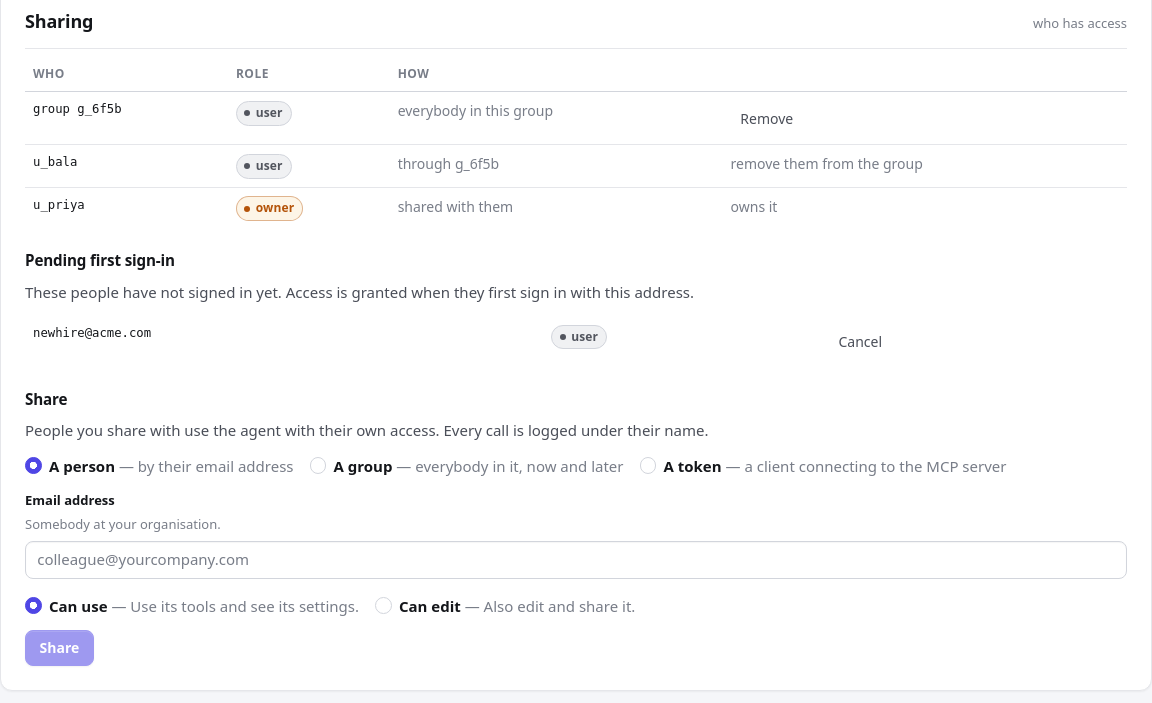
Test case: sharing with a group › renders the server's sentence when the group went away since the list loaded
The width and height of the screenshot is (1152, 703).
Click the radio button labelled "A group — everybody in it, now and later" at [318, 466], box [310,457,326,474]
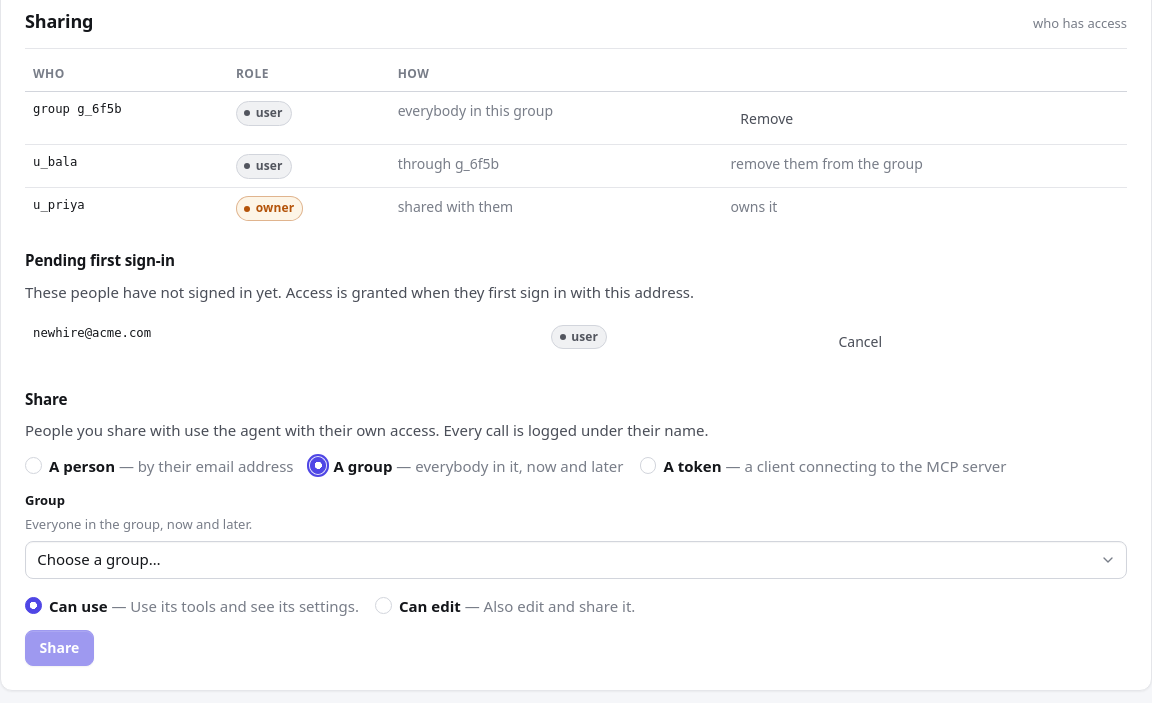
Select "eng — whoever your directory puts in it" in the dropdown labelled "Group Everyone in the group, now and later." at [576, 560], box [25,541,1127,579]
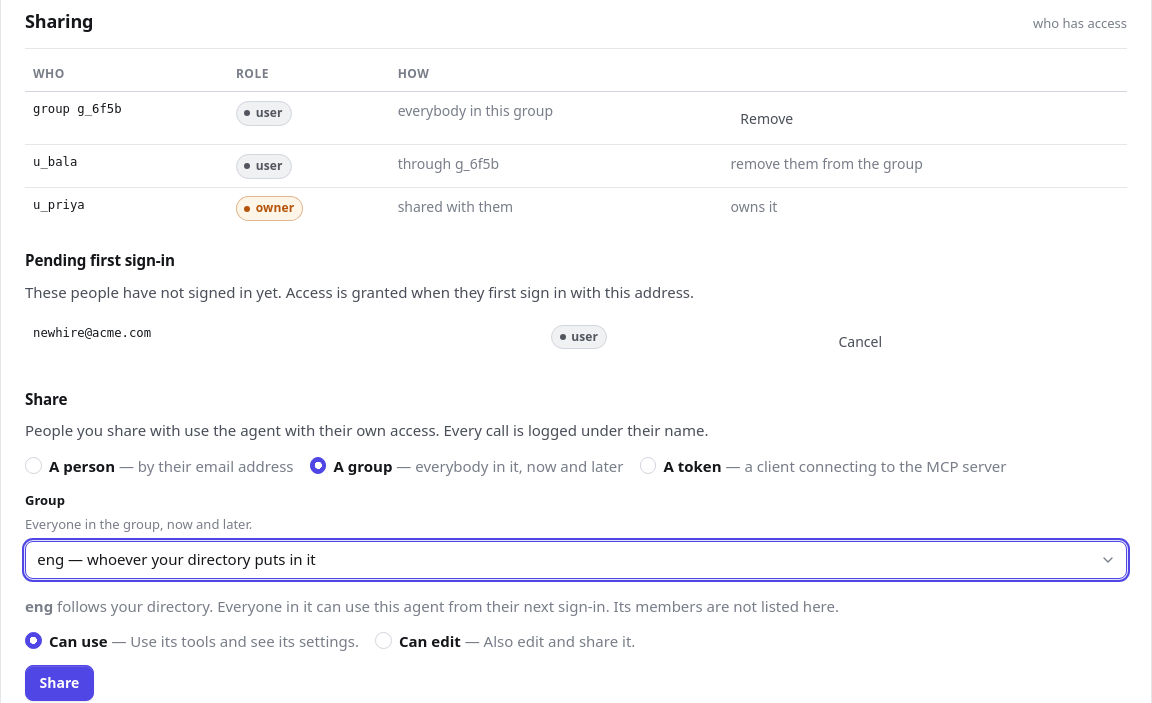
Click the button "Share" at [59, 683], box [25,665,94,701]
(page scrolled)
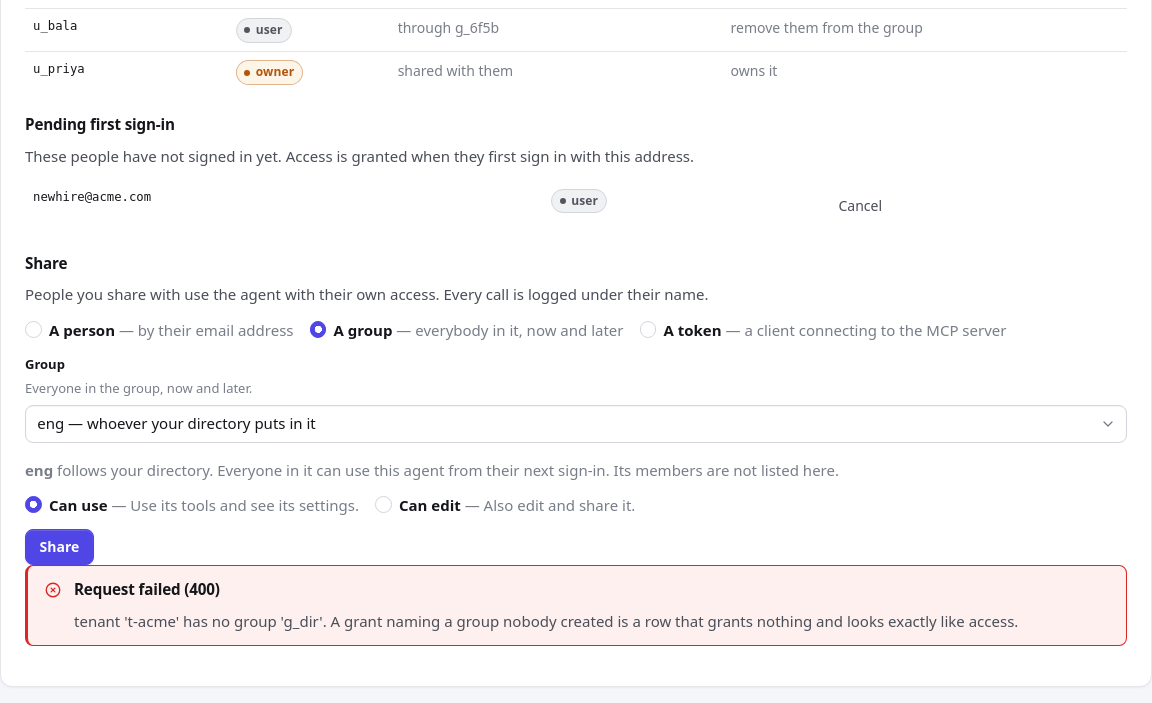
Result: the text "looks exactly like access" is shown at [74,611,1018,631]
